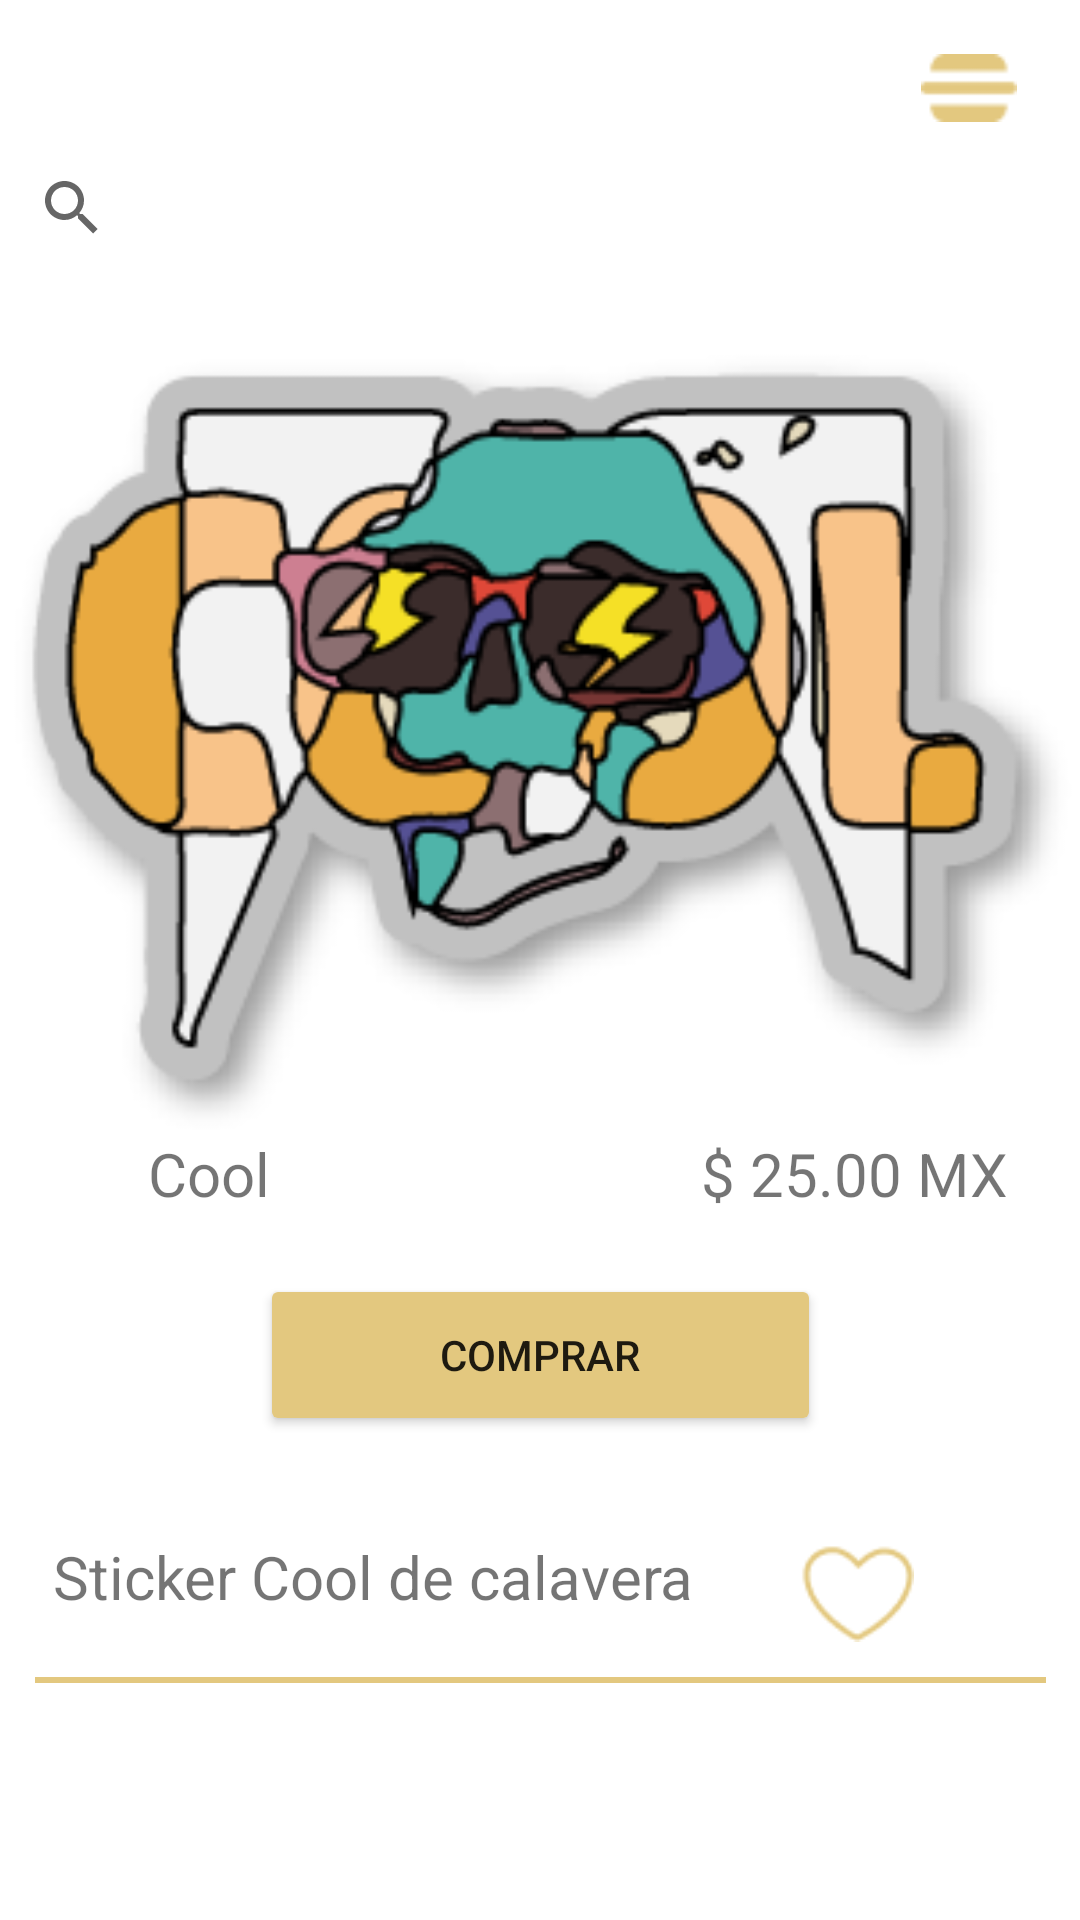

Icon click points for this 1080*1920 phone screenshot, format (x=x, y=y):
borderlike: (x=858, y=1594)
hamburguer: (x=969, y=88)
